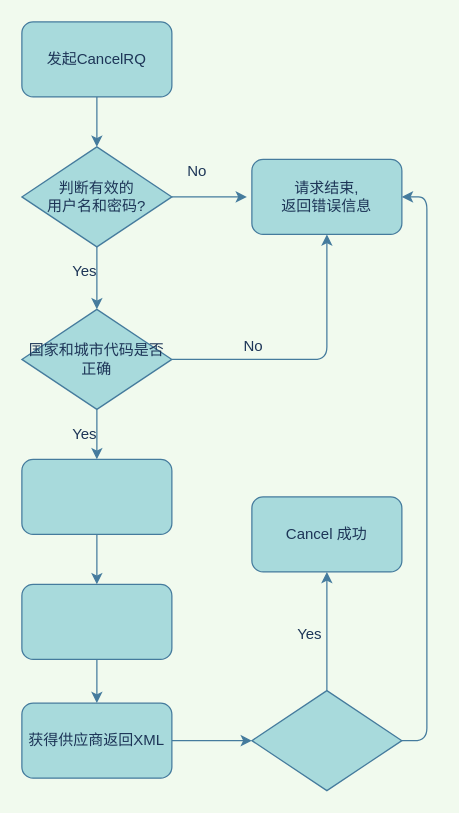
Image size: 459x813. Some labels were removed from this diagram. The centre of each missing label's shape, as x and y in pixels:
判断供应商返回是否取消成功: (326,740)
发送供应商 请求并且记log: (96,621)
组装对应供应商 请求XML: (96,496)
